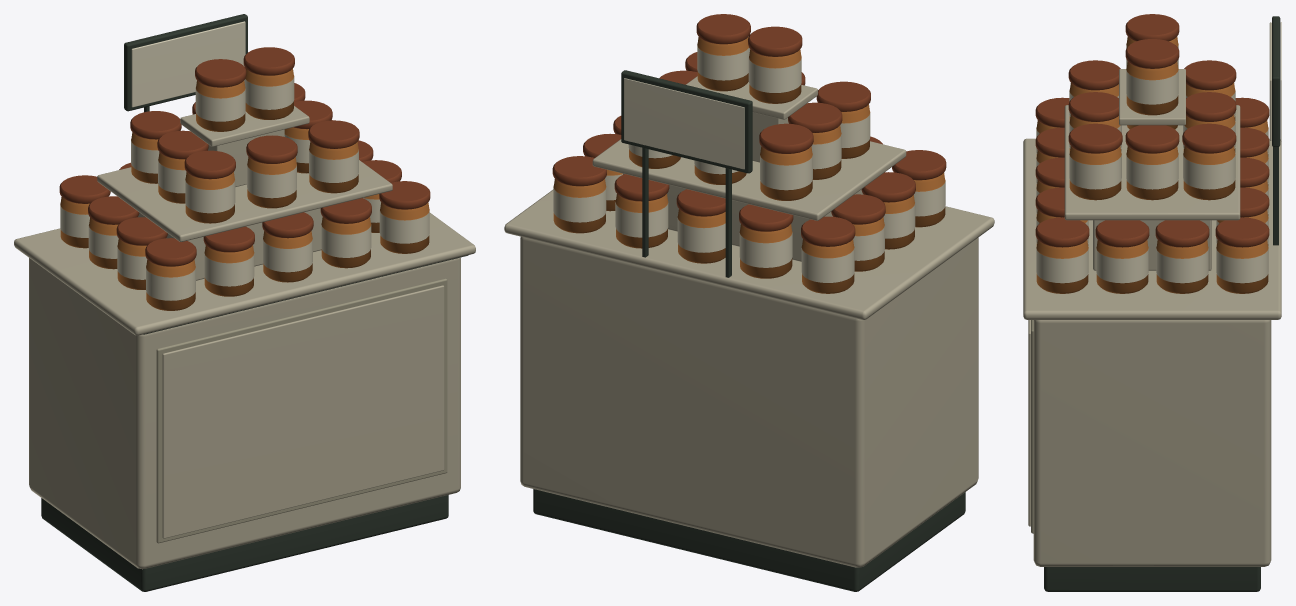
The picture shows the model from 3 angles, left to right: view 1: azimuth 30°, elevation 25°; view 2: azimuth 150°, elevation 25°; view 3: azimuth 270°, elevation 25°; orthographic projection. The views are drawn at different scales.
Parts seen in each view (by area): view 1: DISPLAY_SharedMatteFixtureAndBlankPaper, DISPLAY_SharedPlainTerracottaLid, DISPLAY_SharedOpaquePeanutTone; view 2: DISPLAY_SharedMatteFixtureAndBlankPaper, DISPLAY_SharedPlainTerracottaLid, DISPLAY_SharedOpaquePeanutTone; view 3: DISPLAY_SharedMatteFixtureAndBlankPaper, DISPLAY_SharedPlainTerracottaLid, DISPLAY_SharedOpaquePeanutTone.
Part boxes in pixels (bbox=[...]): DISPLAY_SharedMatteFixtureAndBlankPaper: bbox=[14, 14, 475, 591]; DISPLAY_SharedPlainTerracottaLid: bbox=[59, 47, 430, 266]; DISPLAY_SharedOpaquePeanutTone: bbox=[60, 68, 429, 310]; DISPLAY_SharedMatteFixtureAndBlankPaper: bbox=[504, 46, 994, 591]; DISPLAY_SharedPlainTerracottaLid: bbox=[552, 14, 946, 246]; DISPLAY_SharedOpaquePeanutTone: bbox=[553, 37, 945, 293]; DISPLAY_SharedMatteFixtureAndBlankPaper: bbox=[1023, 16, 1281, 591]; DISPLAY_SharedPlainTerracottaLid: bbox=[1035, 14, 1269, 247]; DISPLAY_SharedOpaquePeanutTone: bbox=[1036, 36, 1268, 293].
Size of the model in its own units: 0.8 by 1.02 by 0.5.
